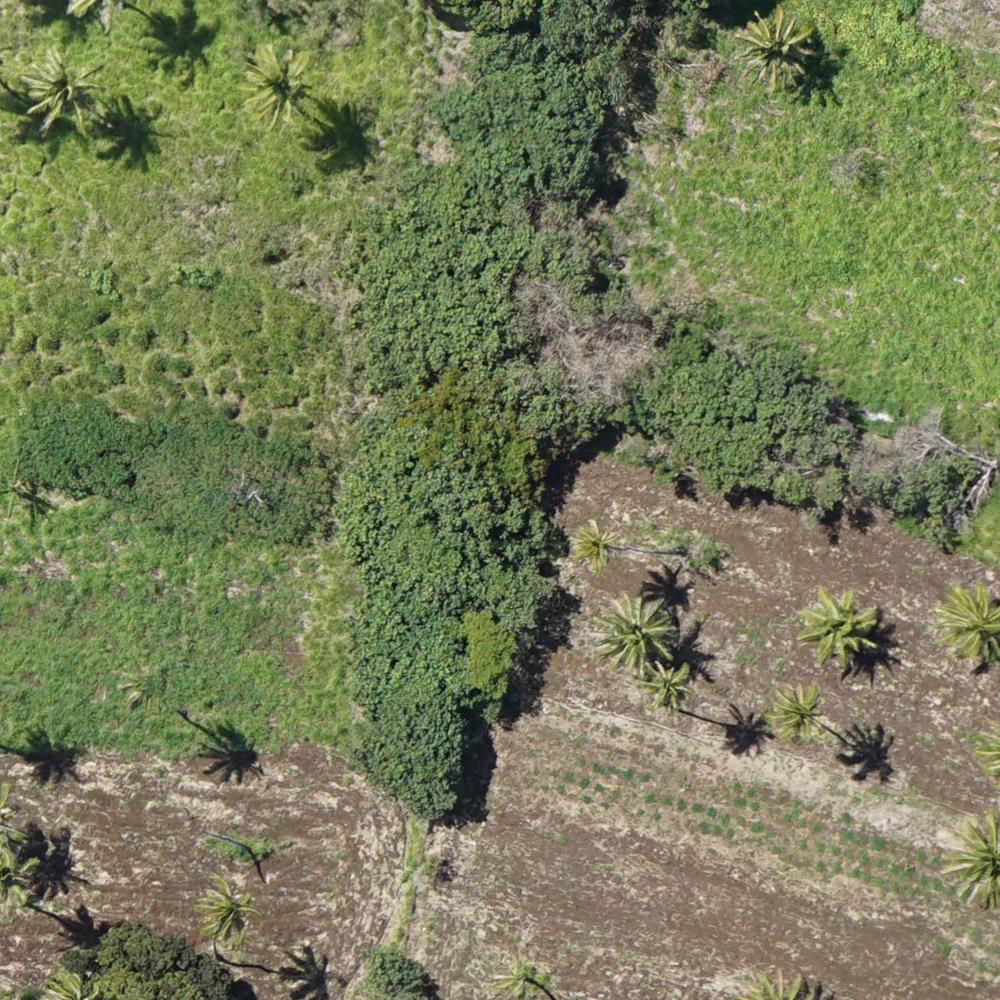Palm: (19, 51, 100, 135), (590, 597, 670, 676), (798, 584, 875, 666), (236, 46, 315, 122), (739, 11, 814, 89), (925, 585, 1000, 663), (767, 685, 833, 741), (198, 879, 255, 941), (639, 658, 696, 713), (568, 514, 618, 573)
